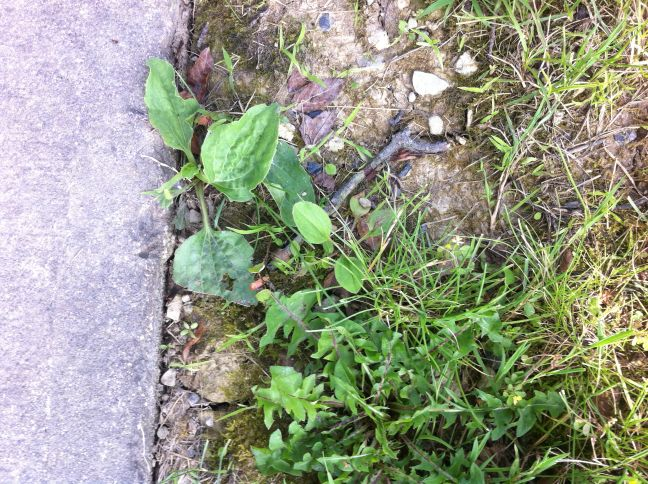weed1: (131, 47, 331, 316)
